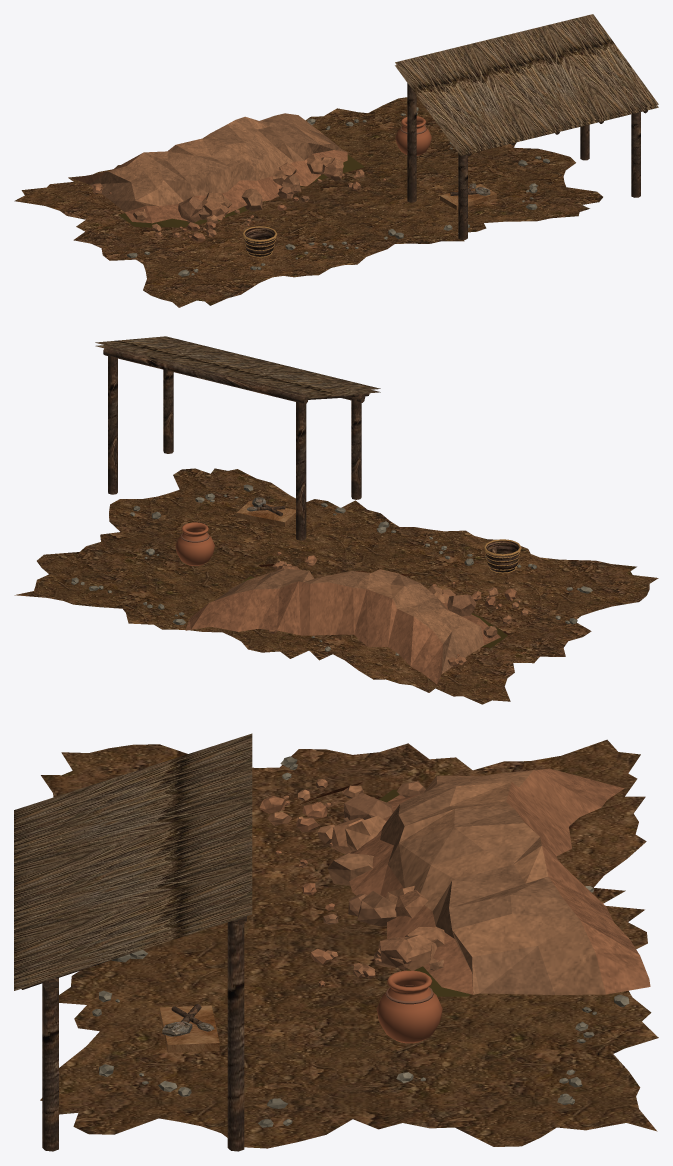
Rendered from claypit@1.glb.
3 renders of one model, top to bottom at view 1: azimuth 30°, elevation 25°; view 2: azimuth 150°, elevation 25°; view 3: azimuth 270°, elevation 25°, orthographic. The views are drawn at different scales.
Parts seen in each view (by area): view 1: part_0, part_12, part_1, part_9, part_3, part_6, part_4, part_8; view 2: part_0, part_1, part_9, part_12, part_6, part_4, part_8; view 3: part_0, part_1, part_12, part_9, part_6, part_8.
Part boxes in pixels (left/top/right/bottom): part_0: left=14, top=96, right=602, bottom=307; part_12: left=395, top=14, right=658, bottom=155; part_1: left=72, top=107, right=549, bottom=276; part_9: left=407, top=83, right=647, bottom=239; part_3: left=119, top=155, right=364, bottom=227; part_6: left=395, top=116, right=431, bottom=155; part_4: left=244, top=227, right=275, bottom=256; part_8: left=440, top=184, right=496, bottom=209; part_0: left=14, top=468, right=658, bottom=704; part_1: left=71, top=484, right=592, bottom=684; part_9: left=103, top=346, right=369, bottom=540; part_12: left=95, top=336, right=380, bottom=398; part_6: left=175, top=522, right=214, bottom=565; part_4: left=486, top=540, right=519, bottom=572; part_8: left=236, top=501, right=295, bottom=526; part_0: left=40, top=739, right=658, bottom=1148; part_1: left=92, top=756, right=650, bottom=1127; part_12: left=14, top=733, right=252, bottom=990; part_9: left=21, top=916, right=246, bottom=1151; part_6: left=376, top=970, right=442, bottom=1043; part_8: left=159, top=1005, right=219, bottom=1052.
Size of the model in its own units: 5.7 by 1.61 by 3.66.
13 materials, 8 textured.
